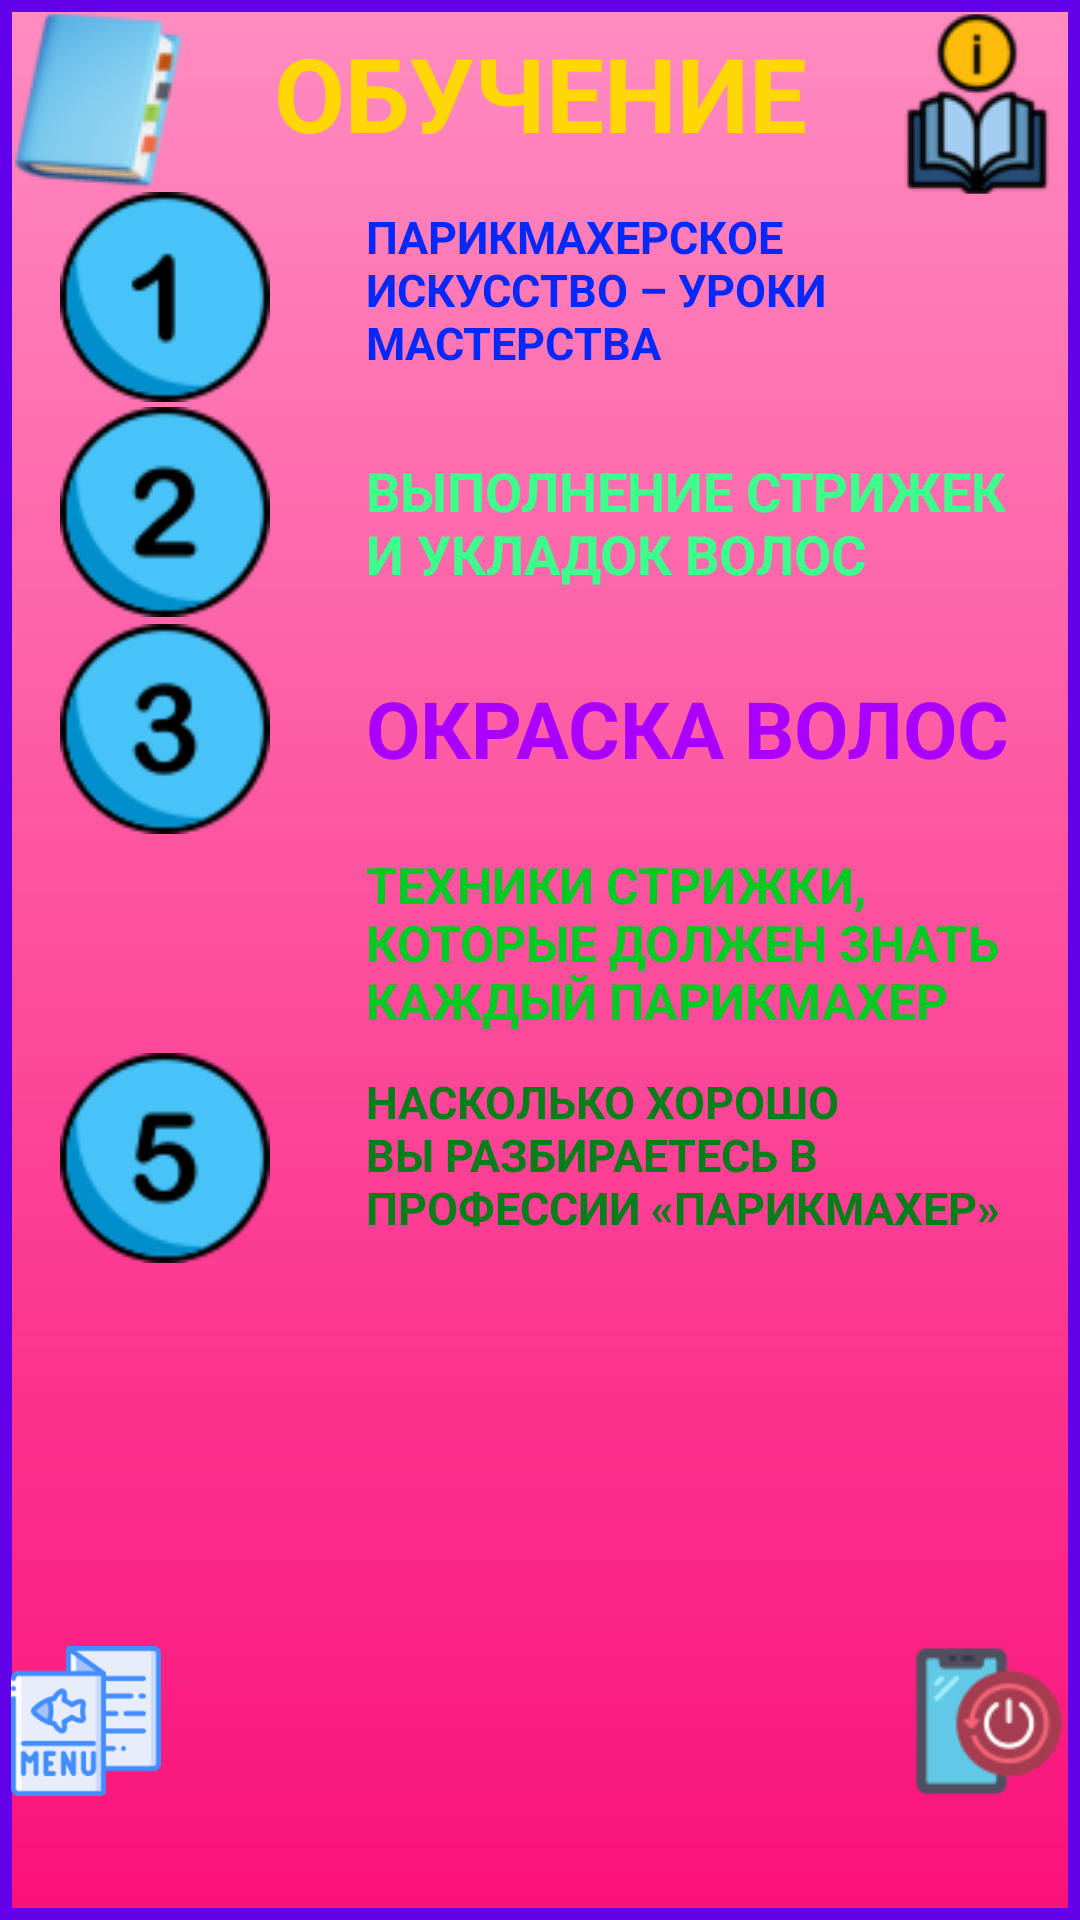

Icon click points for this 1080 × 1920 phone screenshot, format (x,y):
number: (165,297), (165,512), (165,729), (165,1158)
obuch: (102,104), (977,104)
restart: (989,1721)
